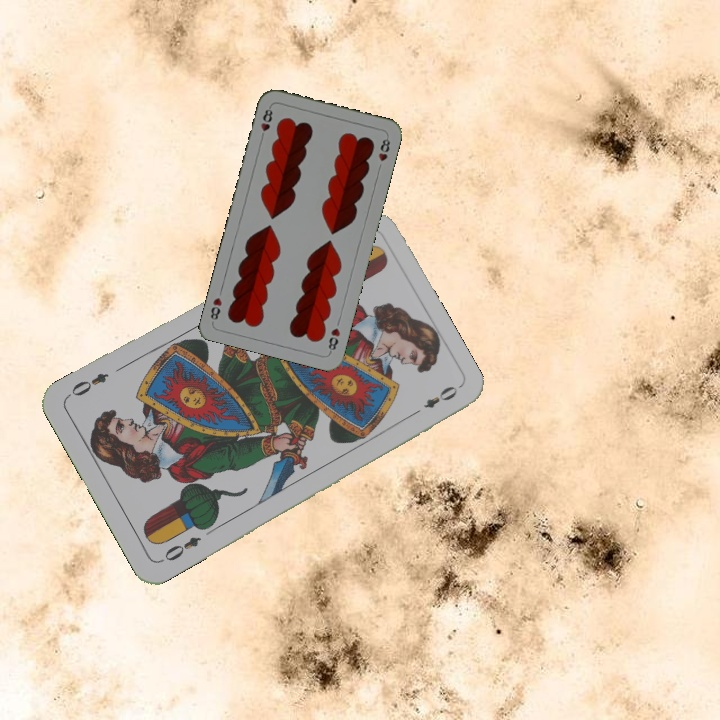EO: (156, 532, 204, 565)
H8: (257, 102, 275, 142), (324, 324, 343, 355)
